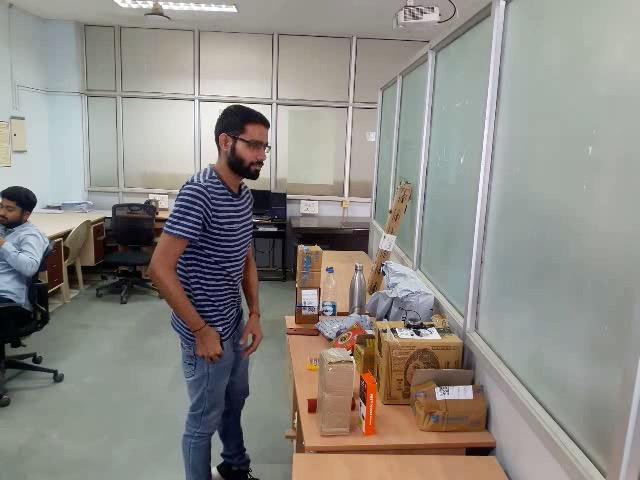shoplifting: (137, 288, 286, 388)
